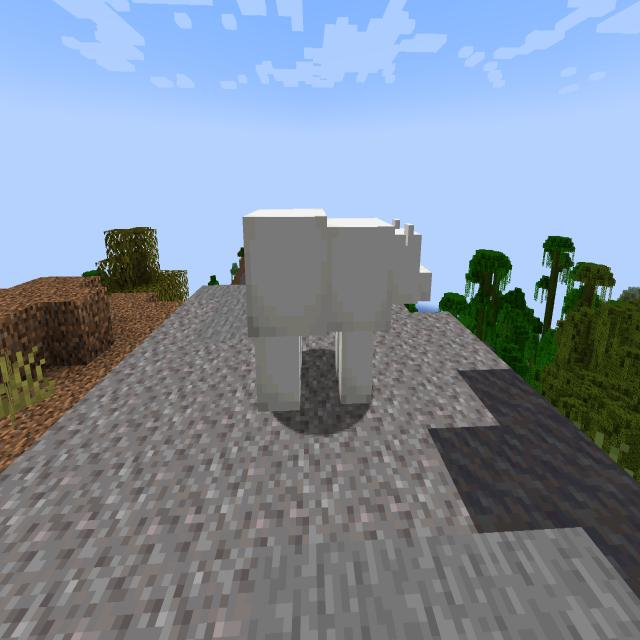Polar Bear: (234, 184, 440, 444)
